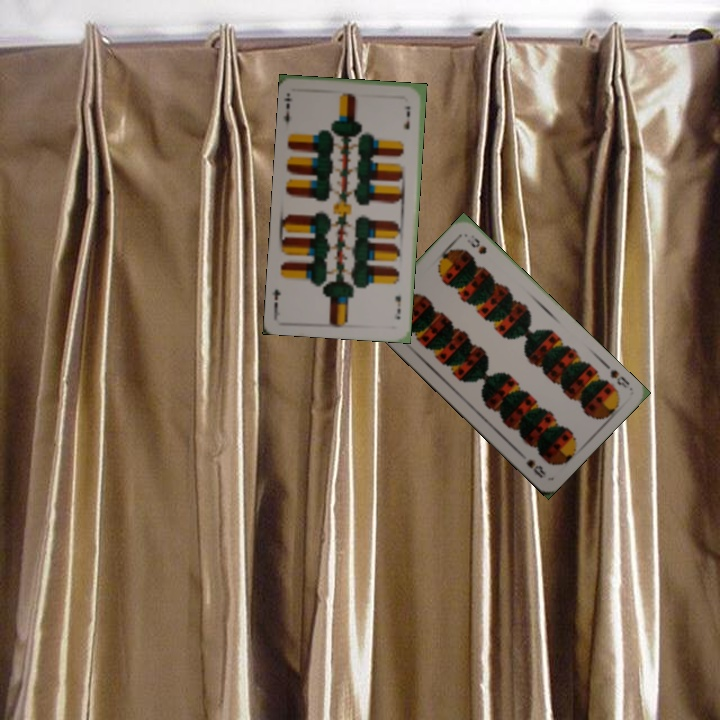E7: (279, 94, 294, 130), (390, 291, 403, 322)
S8: (606, 366, 632, 391)
